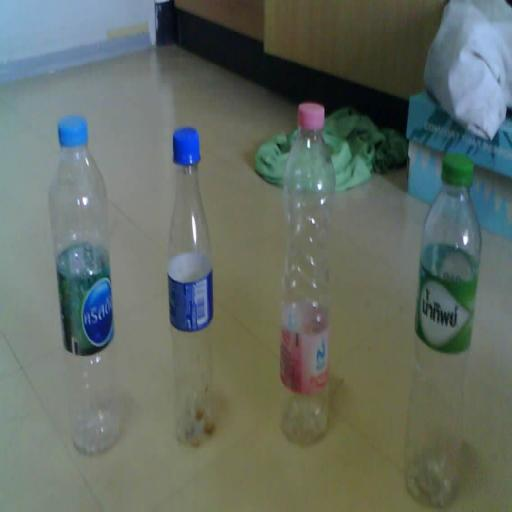bottle: (406, 153, 481, 512), (48, 115, 119, 456), (279, 102, 332, 447), (166, 127, 214, 446)
